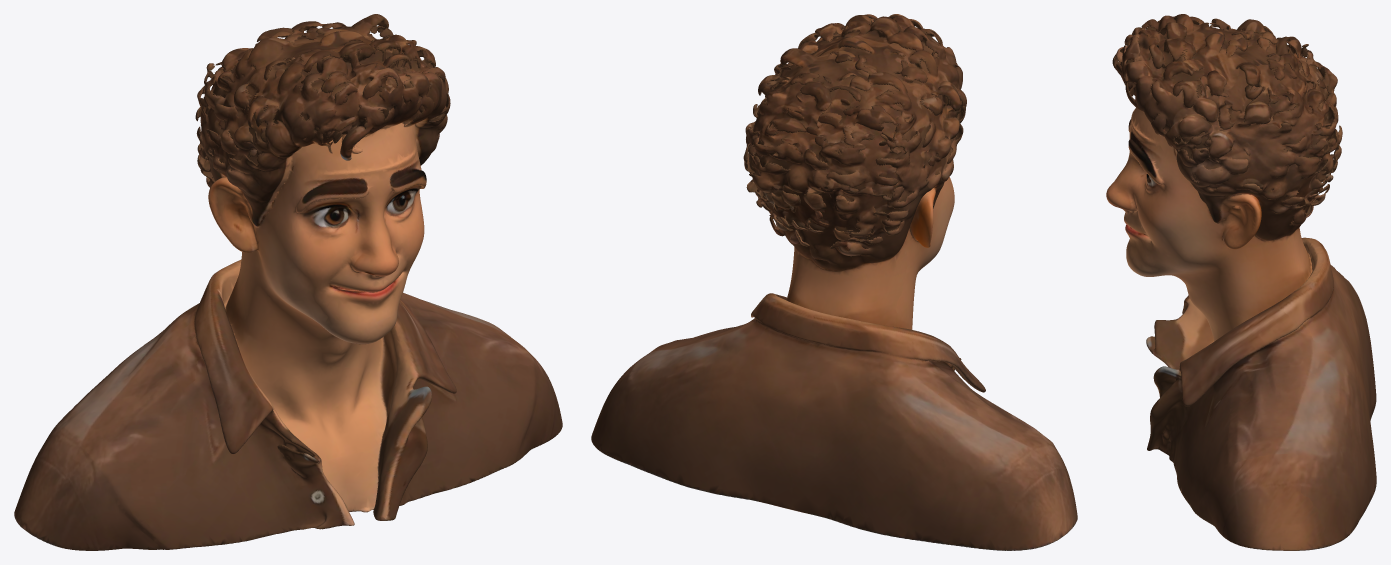
Rendered from divyansh.glb.
The picture shows the model from 3 angles, left to right: view 1: azimuth 30°, elevation 25°; view 2: azimuth 150°, elevation 25°; view 3: azimuth 270°, elevation 25°; orthographic projection. The views are drawn at different scales.
Visible parts, largest first — view 1: tripo_node_fd0def5d-7165-4dac-8591-3df16eaad88a; view 2: tripo_node_fd0def5d-7165-4dac-8591-3df16eaad88a; view 3: tripo_node_fd0def5d-7165-4dac-8591-3df16eaad88a.
Part boxes in pixels (x1=…): tripo_node_fd0def5d-7165-4dac-8591-3df16eaad88a: x1=14, y1=14, x2=562, y2=550; tripo_node_fd0def5d-7165-4dac-8591-3df16eaad88a: x1=591, y1=14, x2=1077, y2=550; tripo_node_fd0def5d-7165-4dac-8591-3df16eaad88a: x1=1106, y1=14, x2=1376, y2=550.
Size of the model in its own units: 1 by 0.8657 by 0.5078.
1 material, 1 textured.
